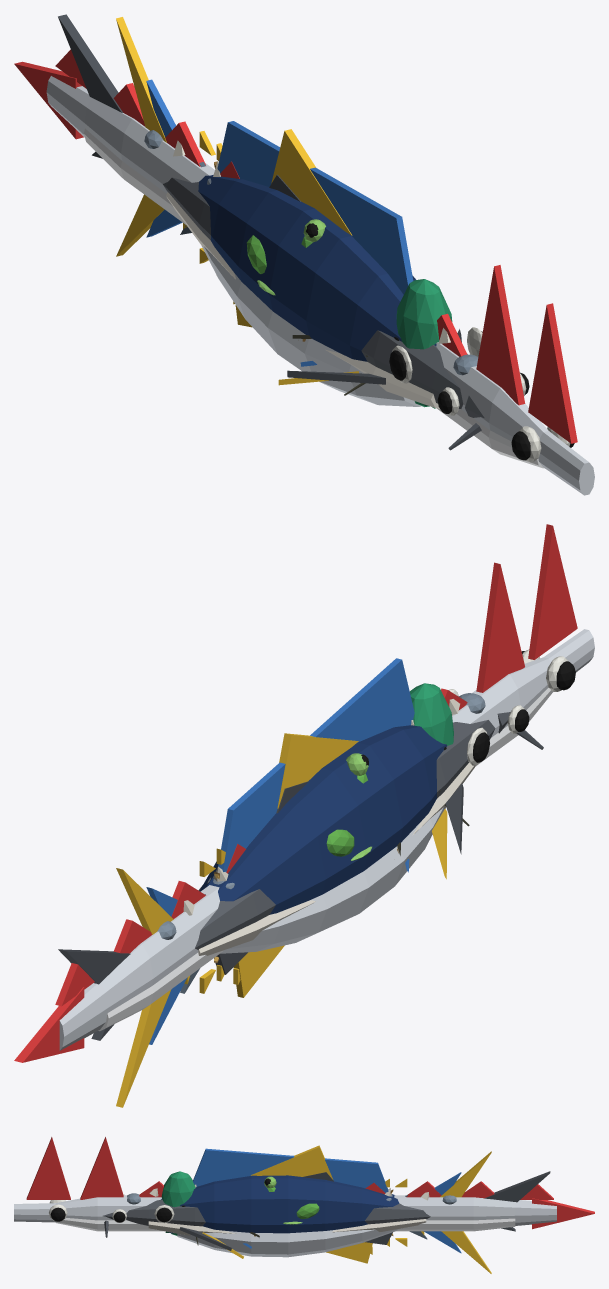
Rendered from fish.glb.
3 renders of one model, top to bottom at view 1: azimuth 30°, elevation 25°; view 2: azimuth 150°, elevation 25°; view 3: azimuth 270°, elevation 25°, orthographic. The views are drawn at different scales.
Visible parts, largest first — view 1: fish_tuna_body, fish_oarfish_body, fish_mahi_body, fish_sturgeon_body, fish_tuna_tail, fish_sturgeon_tail, fish_oarfish_tail, fish_mahi_tail, fish_frog_body; view 2: fish_tuna_body, fish_oarfish_body, fish_mahi_body, fish_sturgeon_body, fish_tuna_tail, fish_oarfish_tail, fish_sturgeon_tail, fish_frog_body, fish_mahi_tail; view 3: fish_tuna_body, fish_oarfish_body, fish_mahi_body, fish_sturgeon_body, fish_tuna_tail, fish_sturgeon_tail, fish_oarfish_tail, fish_mahi_tail, fish_frog_body.
Boxes of the visible parts, x1,y1,x2,y2 form: fish_tuna_body: [183, 129, 482, 406]; fish_oarfish_body: [46, 49, 594, 495]; fish_mahi_body: [217, 121, 452, 408]; fish_sturgeon_body: [163, 140, 529, 450]; fish_tuna_tail: [116, 17, 166, 256]; fish_sturgeon_tail: [58, 14, 122, 158]; fish_oarfish_tail: [14, 61, 83, 139]; fish_mahi_tail: [146, 79, 182, 237]; fish_frog_body: [246, 219, 325, 295]; fish_tuna_body: [184, 725, 489, 997]; fish_oarfish_body: [55, 524, 594, 1050]; fish_mahi_body: [218, 658, 453, 872]; fish_sturgeon_body: [183, 689, 543, 974]; fish_tuna_tail: [116, 868, 173, 1107]; fish_oarfish_tail: [14, 987, 84, 1062]; fish_sturgeon_tail: [58, 949, 130, 1040]; fish_frog_body: [326, 753, 371, 860]; fish_mahi_tail: [146, 887, 187, 1044]; fish_tuna_body: [154, 1145, 424, 1263]; fish_oarfish_body: [14, 1137, 556, 1231]; fish_mahi_body: [161, 1148, 388, 1248]; fish_sturgeon_body: [103, 1172, 430, 1250]; fish_tuna_tail: [440, 1151, 491, 1273]; fish_sturgeon_tail: [484, 1171, 550, 1231]; fish_oarfish_tail: [532, 1198, 594, 1229]; fish_mahi_tail: [424, 1172, 461, 1253]; fish_frog_body: [264, 1176, 319, 1224].
Bounding box in the file's own units: 0.3571 × 0.5244 × 2.02.
